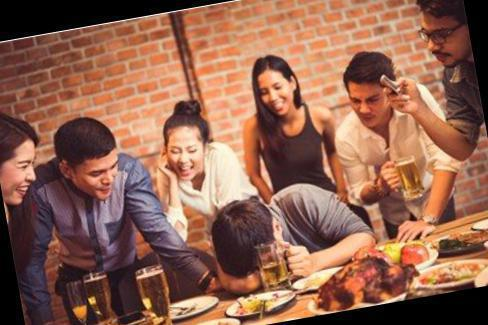Drunk: (420, 12, 472, 67), (163, 127, 205, 183), (1, 138, 35, 205), (345, 80, 391, 128), (79, 148, 119, 201), (255, 69, 295, 116)
